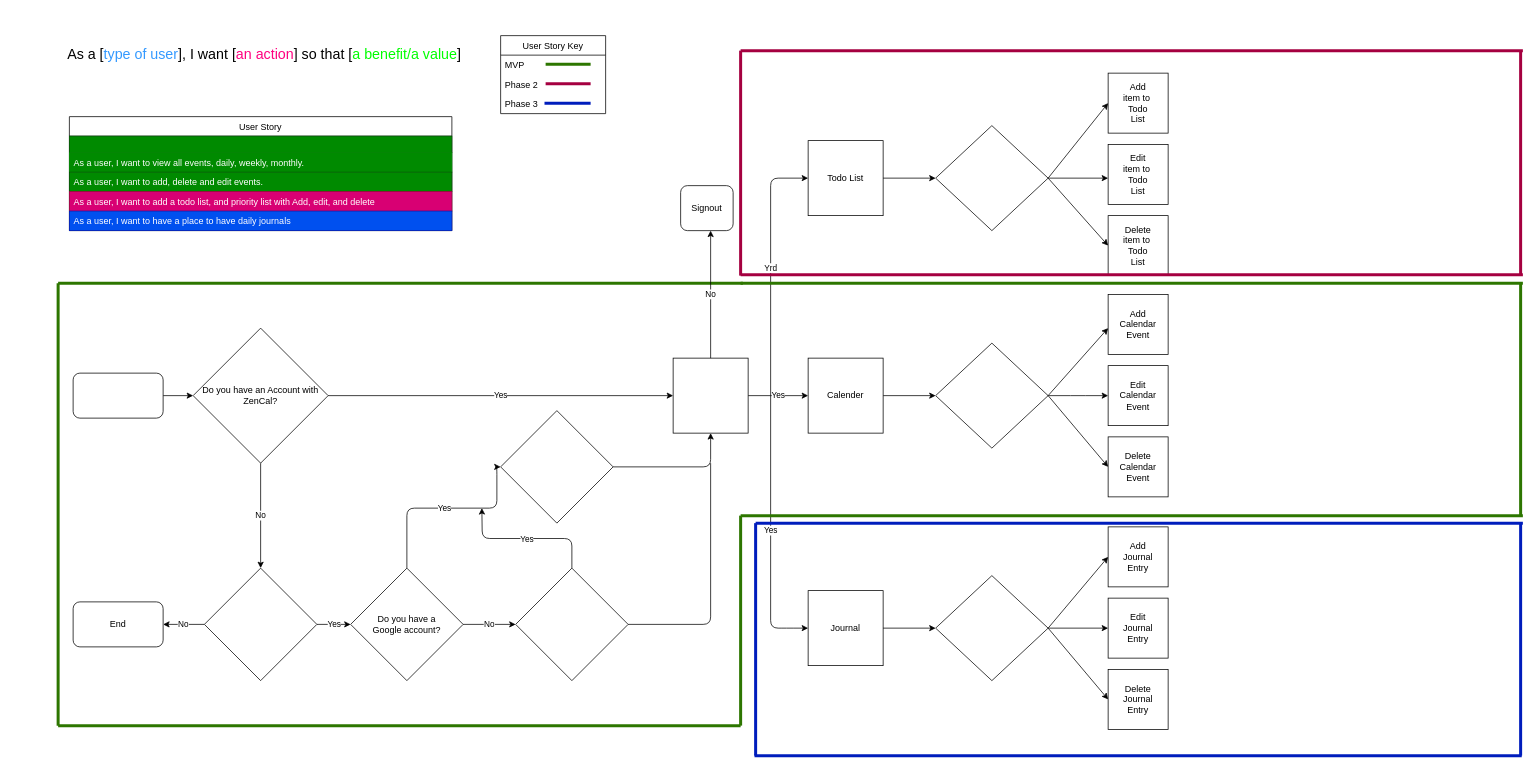
Some shapes in this 1538 by 770 pixel diagram are drawn without their labels. Here are the shapes that lost their labels. From the top down, the centre of each, then its label:
At [260,144]: "As a user, I want to import my google calender events.".
At [991,178]: "Add, Edit, or Delete Todo or Priority list item?".
At [117,395]: "Open App".
At [710,395]: "View Homepage".
At [991,395]: "Add, Edit, or Delete Caleder Event?".
At [556,466]: "Link your google calender events?".
At [260,624]: "Create a ZenCal account?".
At [571,624]: "Create a Google account?".
At [991,628]: "Add, Edit, or Delete Journal Entry?".
